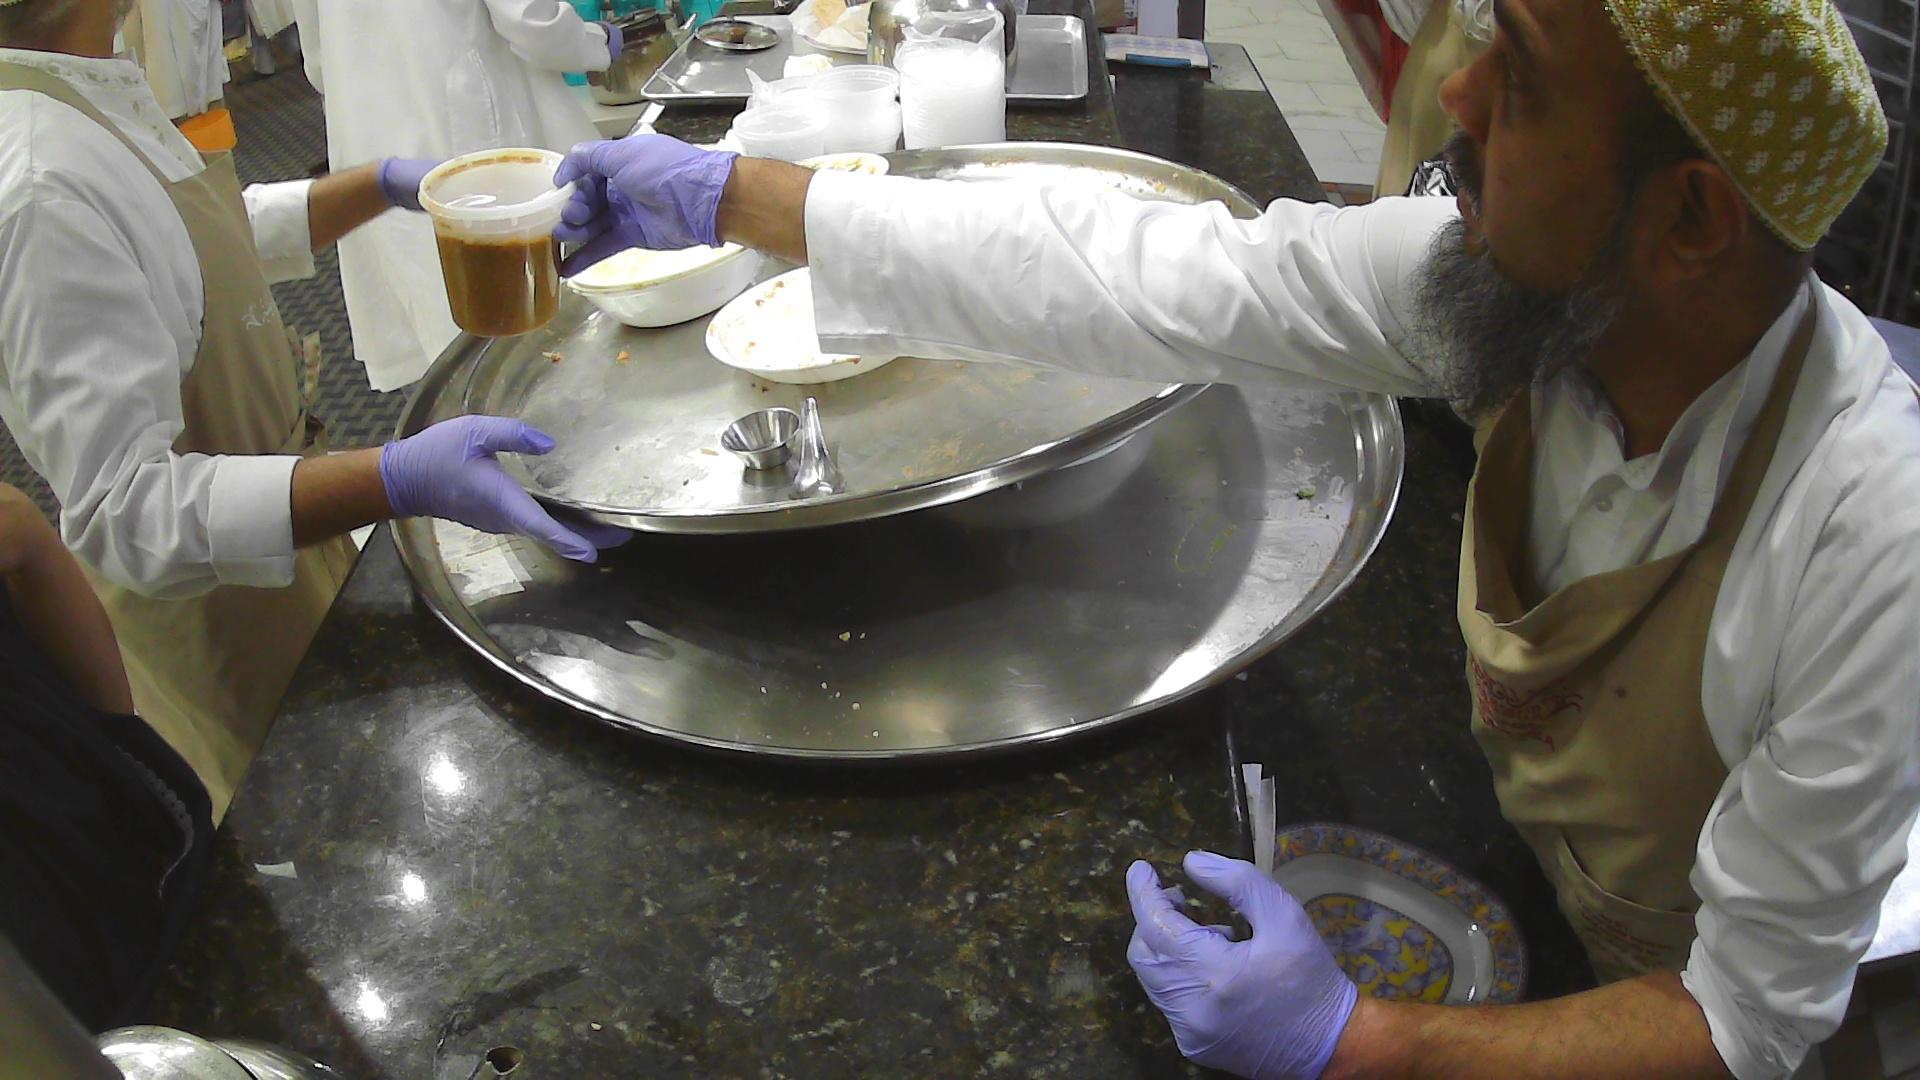thaal: (382, 324, 1410, 777), (455, 138, 1273, 541)
